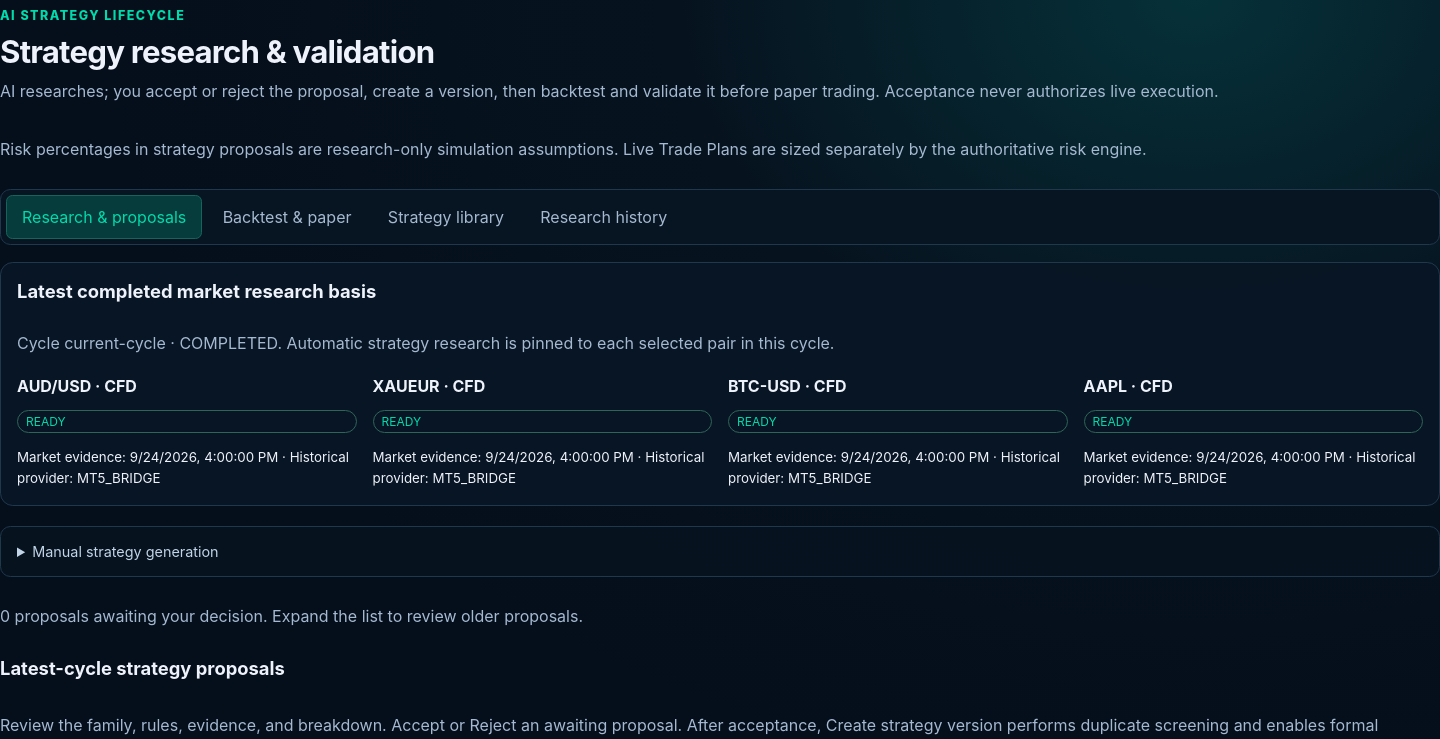
Test: shows every pair in the current market cycle
The image size is (1440, 739).
Expected: the text "Cycle current-cycle · COMPLETED." is shown, x1=17 y1=333 x2=834 y2=353
Click the heading "Manual strategy generation" at (126,552), box x1=32 y1=543 x2=219 y2=560
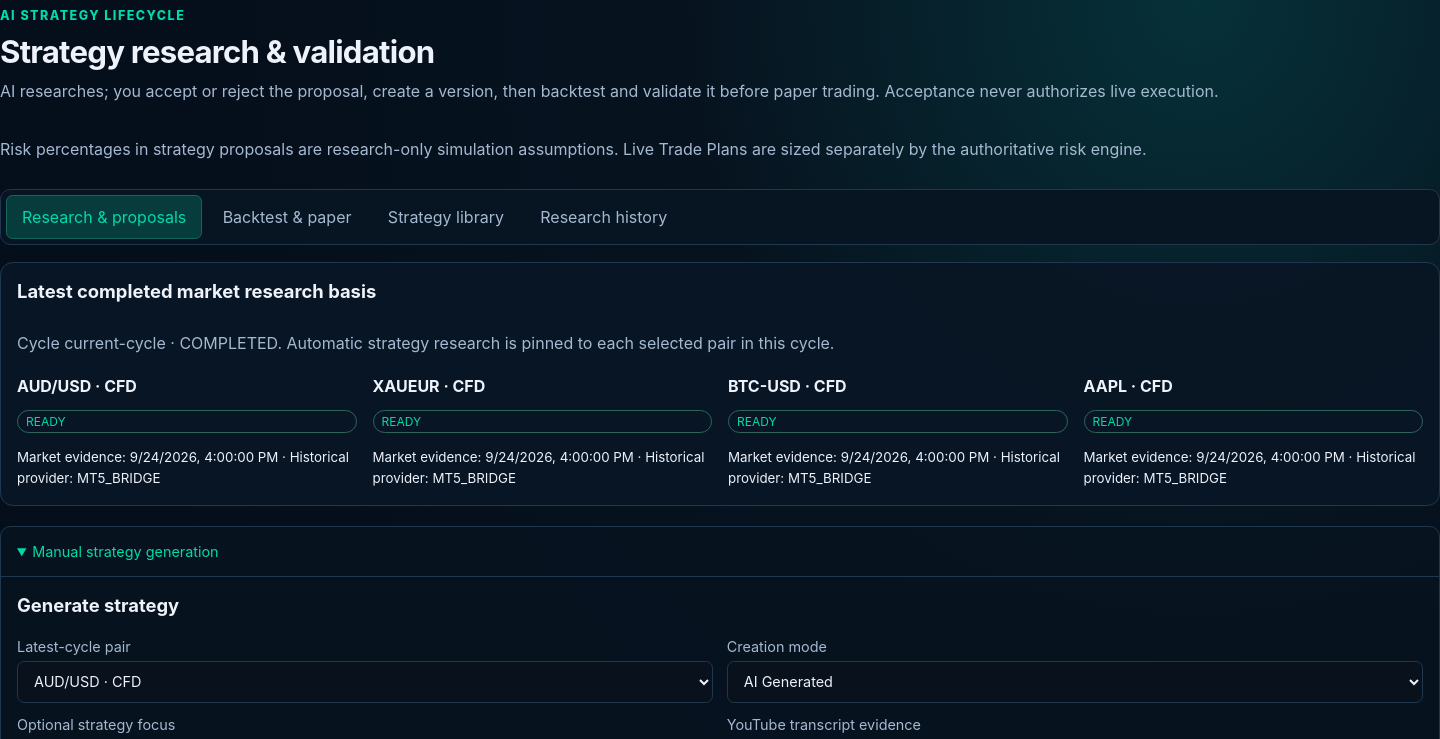
Result: the dropdown labelled "Latest-cycle pair" shows "AUD/USD · CFD" at x1=17 y1=661 x2=713 y2=703
